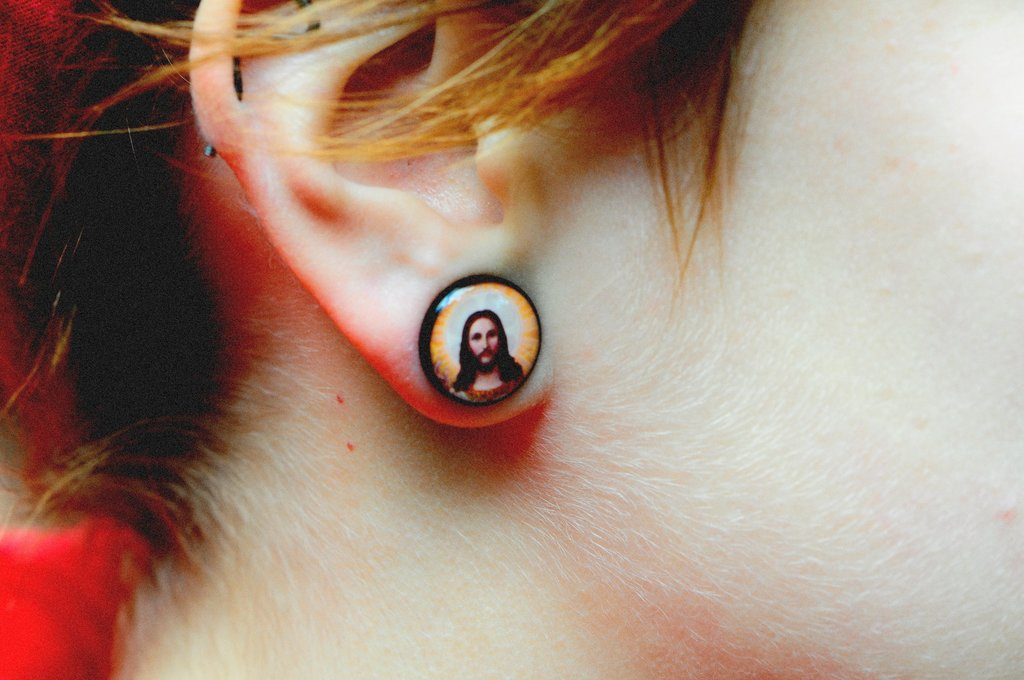Person: (453, 312, 527, 397)
